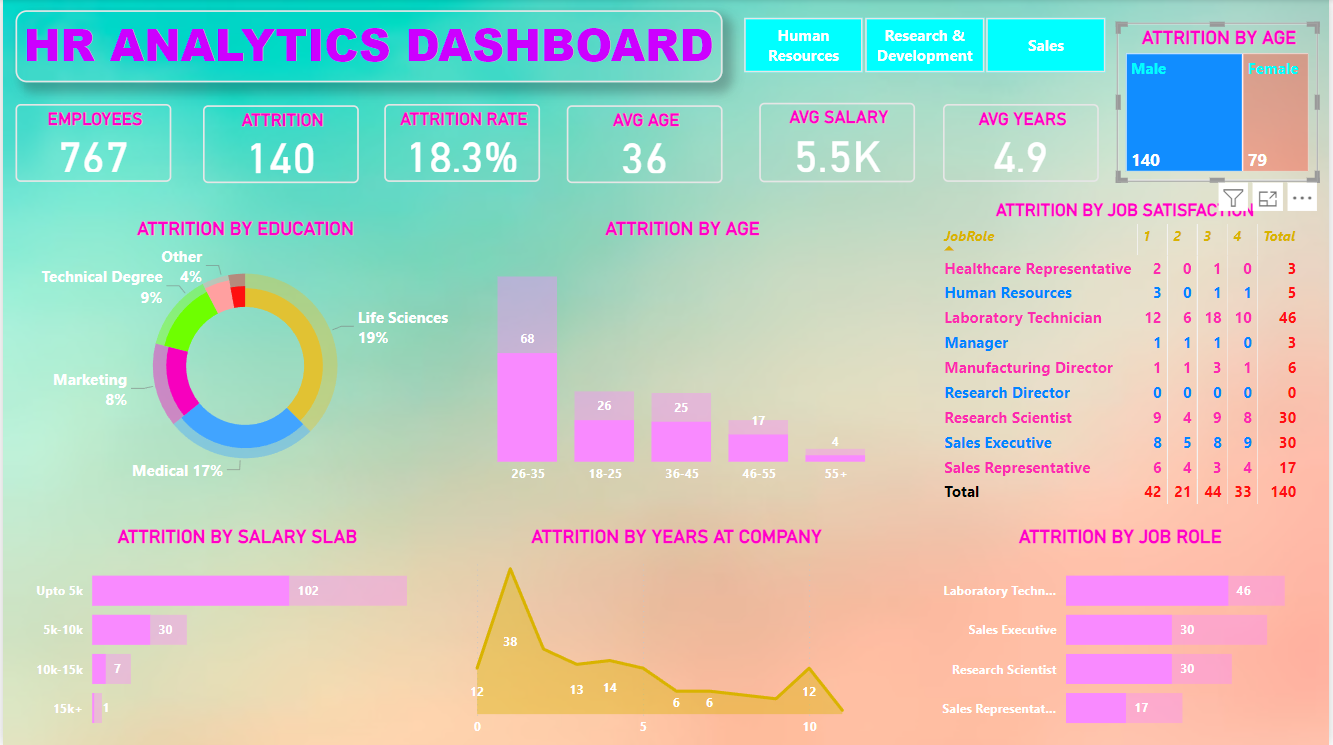

The dashboard page shown, as its layout file describes it:
{"tool":"powerbi","page":{"name":"Page 1","canvas":[1280,720],"ordinal":0},"visuals":[{"type":"card","title":"EMPLOYEES","fields":{"Values":["CountNonNull(HR_Analytics.EmpID)"]},"box":[11.7,101.6,150.3,75.1],"z":0},{"type":"card","title":"ATTRITION","fields":{"Values":["Sum(HR_Analytics.AttritionCount)"]},"box":[193,102.3,150.3,75.1],"z":1000},{"type":"card","title":"ATTRITION RATE","fields":{"Values":["HR_Analytics.AttritionRate"]},"box":[367.9,101.1,150.3,75.1],"z":2000},{"type":"card","title":"AVG AGE","fields":{"Values":["Avg(HR_Analytics.Age)"]},"box":[544.1,102.3,150.3,75.1],"z":3000},{"type":"card","title":"AVG SALARY","fields":{"Values":["Avg(HR_Analytics.MonthlyIncome)"]},"box":[729.4,99.8,150.3,76.4],"z":4000},{"type":"card","title":"AVG YEARS","fields":{"Values":["Avg(HR_Analytics.YearsAtCompany)"]},"box":[906.9,101.1,150.3,75.1],"z":5000},{"type":"donutChart","title":"ATTRITION BY EDUCATION","fields":{"Category":["HR_Analytics.EducationField"],"Y":["Sum(HR_Analytics.AttritionCount)"]},"box":[25.9,211.2,417.2,265.6],"z":6000},{"type":"columnChart","title":"ATTRITION BY AGE","fields":{"Category":["HR_Analytics.AgeGroup"],"Y":["Sum(HR_Analytics.AttritionCount)"]},"box":[443.1,211.2,426.2,265.6],"z":7000},{"type":"pivotTable","title":"ATTRITION BY JOB SATISFACTION","fields":{"Rows":["HR_Analytics.JobRole"],"Columns":["HR_Analytics.JobSatisfaction"],"Values":["Sum(HR_Analytics.AttritionCount)"]},"box":[896.5,193,373.1,301.9],"z":8000},{"type":"barChart","title":"ATTRITION BY SALARY SLAB","fields":{"Category":["HR_Analytics.SalarySlab"],"Y":["Sum(HR_Analytics.AttritionCount)"]},"box":[25.9,507.9,401.6,212.5],"z":9000},{"type":"barChart","title":"ATTRITION BY JOB ROLE","fields":{"Category":["HR_Analytics.JobRole"],"Y":["Sum(HR_Analytics.AttritionCount)"]},"box":[888.7,507.9,378.3,212.5],"z":10000},{"type":"stackedAreaChart","title":"ATTRITION BY YEARS AT COMPANY","fields":{"Category":["HR_Analytics.YearsAtCompany"],"Y":["Sum(HR_Analytics.AttritionCount)"]},"box":[443.1,507.9,414.6,212.5],"z":11000},{"type":"treemap","title":"ATTRITION BY AGE","fields":{"Group":["HR_Analytics.Gender"],"Values":["Sum(HR_Analytics.AttritionCount)"]},"box":[1075.3,23.3,194.3,152.9],"z":12000},{"type":"slicer","fields":{"Values":["HR_Analytics.Department"]},"box":[689.2,10.4,399,67.4],"z":13000},{"type":"textbox","box":[11.7,10.4,682.8,70],"z":14000}]}

Visuals, with their boxes in screenshot pixels (x1, y1, x2, y2), scaled from the page's 1280x720 canvas onto the 1333x745 screenshot:
"EMPLOYEES" card: bbox=[12, 105, 169, 183]
"ATTRITION" card: bbox=[201, 106, 358, 184]
"ATTRITION RATE" card: bbox=[383, 105, 540, 182]
"AVG AGE" card: bbox=[567, 106, 723, 184]
"AVG SALARY" card: bbox=[760, 103, 916, 182]
"AVG YEARS" card: bbox=[944, 105, 1101, 182]
"ATTRITION BY EDUCATION" donutChart: bbox=[27, 219, 461, 493]
"ATTRITION BY AGE" columnChart: bbox=[461, 219, 905, 493]
"ATTRITION BY JOB SATISFACTION" pivotTable: bbox=[934, 200, 1322, 512]
"ATTRITION BY SALARY SLAB" barChart: bbox=[27, 526, 445, 744]
"ATTRITION BY JOB ROLE" barChart: bbox=[925, 526, 1319, 744]
"ATTRITION BY YEARS AT COMPANY" stackedAreaChart: bbox=[461, 526, 893, 744]
"ATTRITION BY AGE" treemap: bbox=[1120, 24, 1322, 182]
slicer - HR_Analytics.Department: bbox=[718, 11, 1133, 81]
textbox: bbox=[12, 11, 723, 83]
